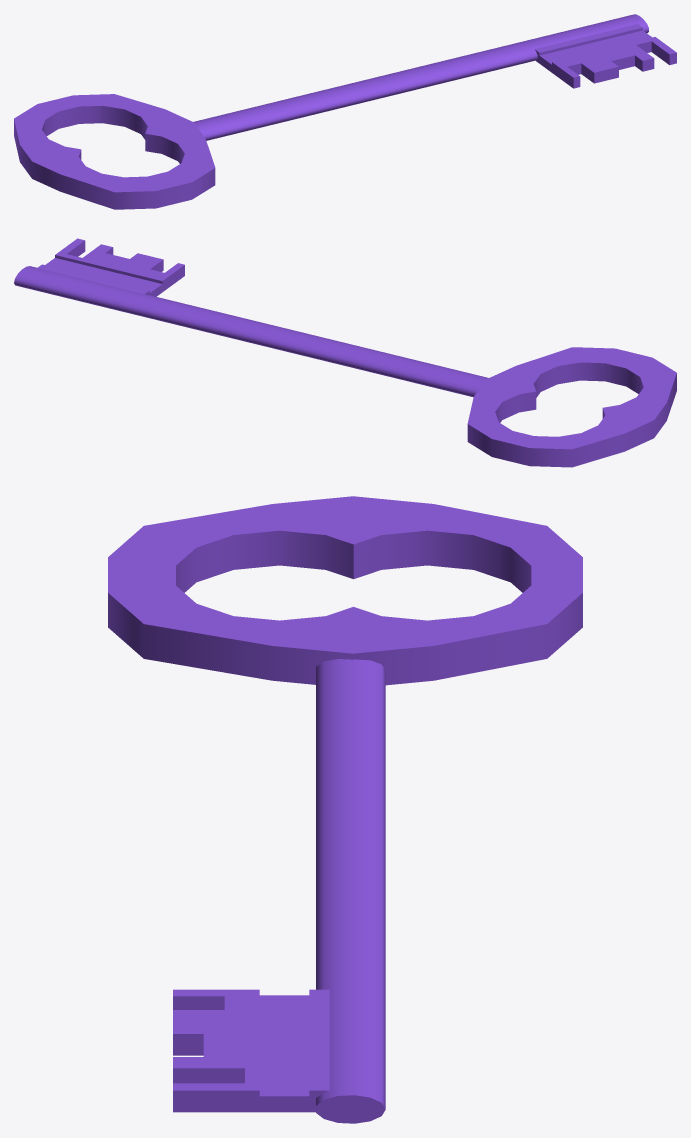
The model's file is Key.obj.
3 views of the same model, one above another, from view 1: azimuth 30°, elevation 25°; view 2: azimuth 150°, elevation 25°; view 3: azimuth 270°, elevation 25° (orthographic). The views are drawn at different scales.
Visible parts, largest first — view 1: Cylinder002; view 2: Cylinder002; view 3: Cylinder002.
Part boxes in pixels (x1,y1,x2,y2): Cylinder002: (14,14,676,209); Cylinder002: (14,238,676,467); Cylinder002: (108,496,582,1123).
Size of the model in its own units: 331 by 9.05 by 112.
